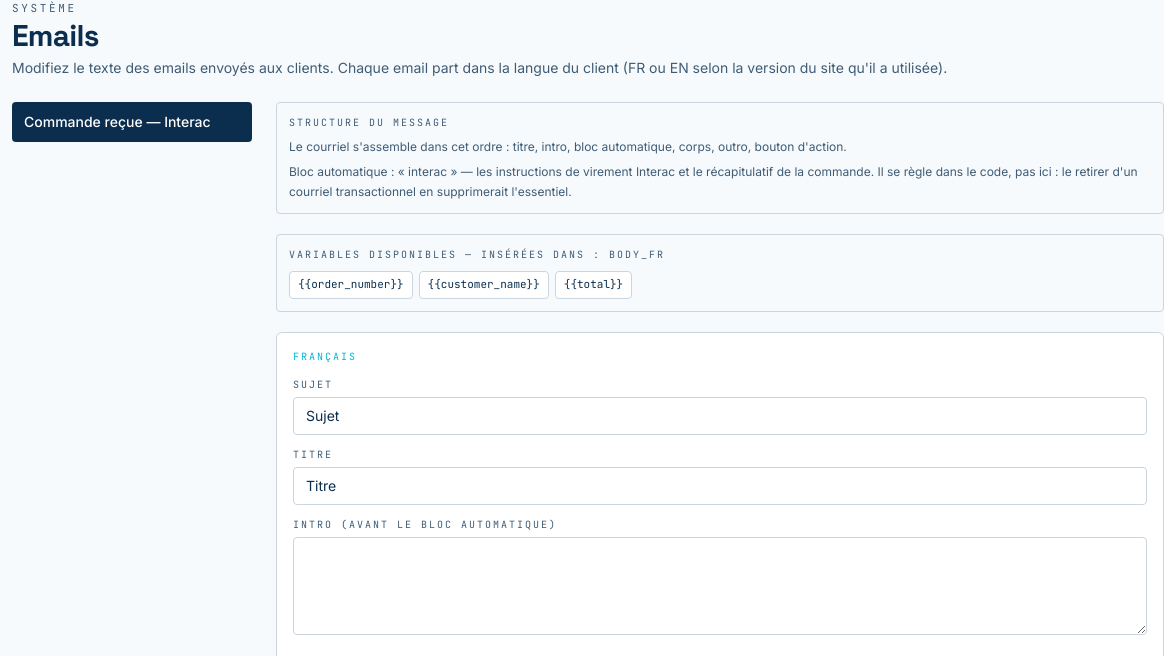
it: une variable sans accolades est normalisée
This screenshot has width=1164, height=656.
What coordinates should you click on to do the following:
click the button with test id "email-var-order_number"
I would click on:
 (351, 285)
Its box is [289,271,413,299].
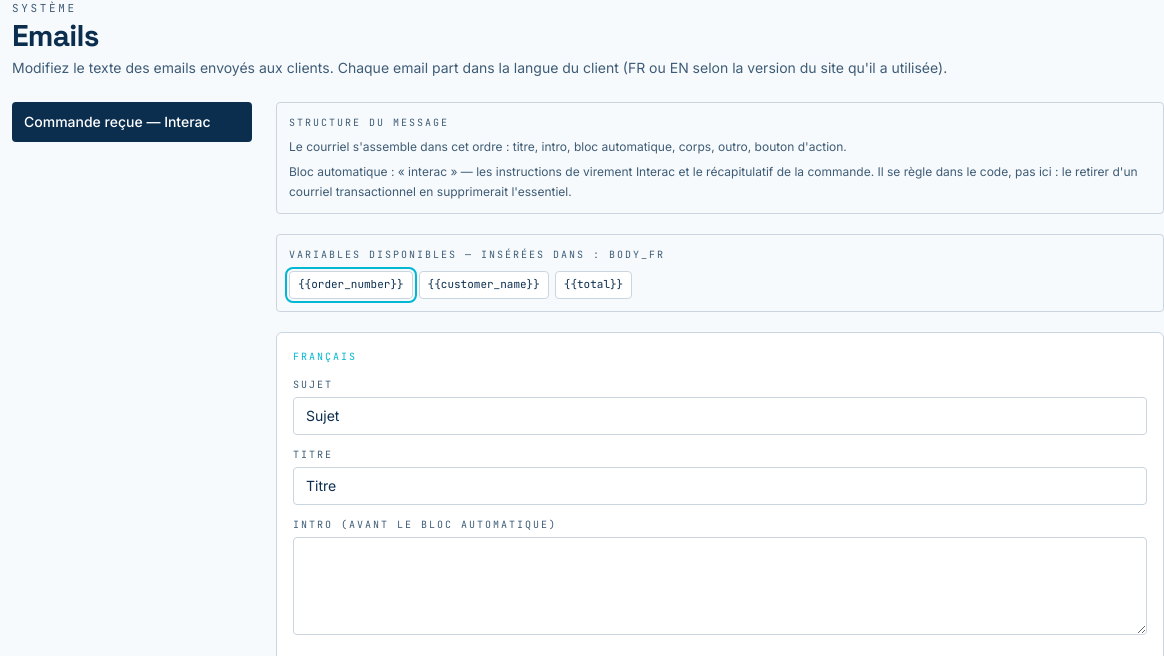
What coordinates should you click on to do the following:
click the button with test id "email-var-customer_name"
I would click on:
 (484, 285)
Its box is [419,271,549,299].
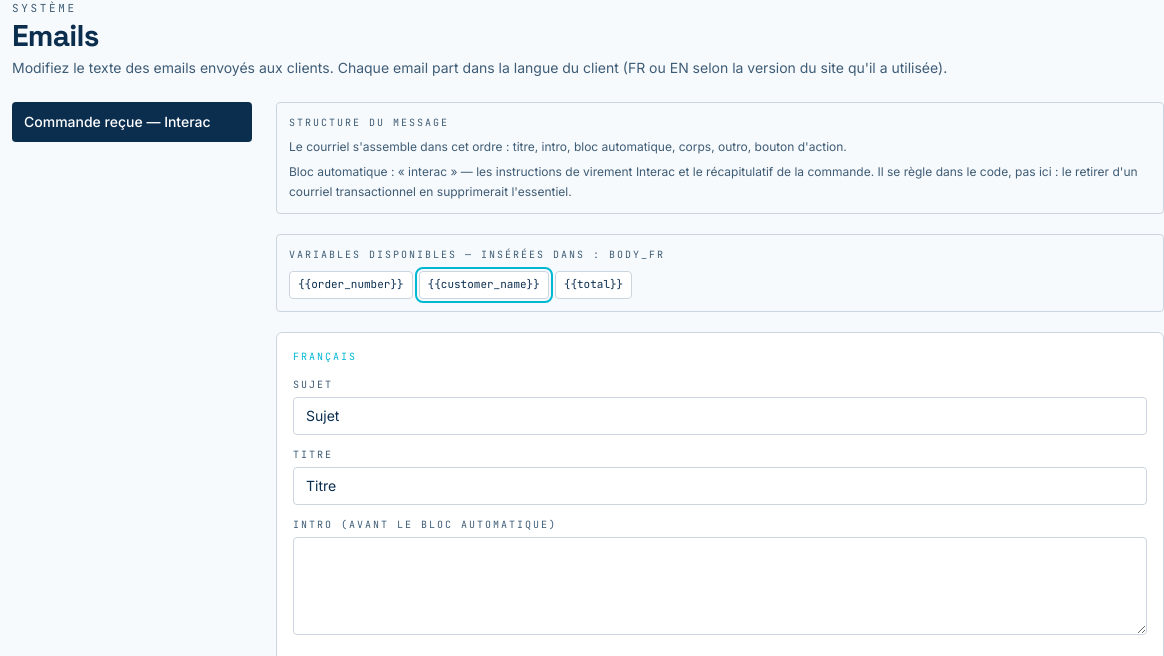
What coordinates should you click on to do the following:
click the button with test id "email-var-total"
I would click on:
 (594, 285)
Its box is [555,271,632,299].
(page scrolled)
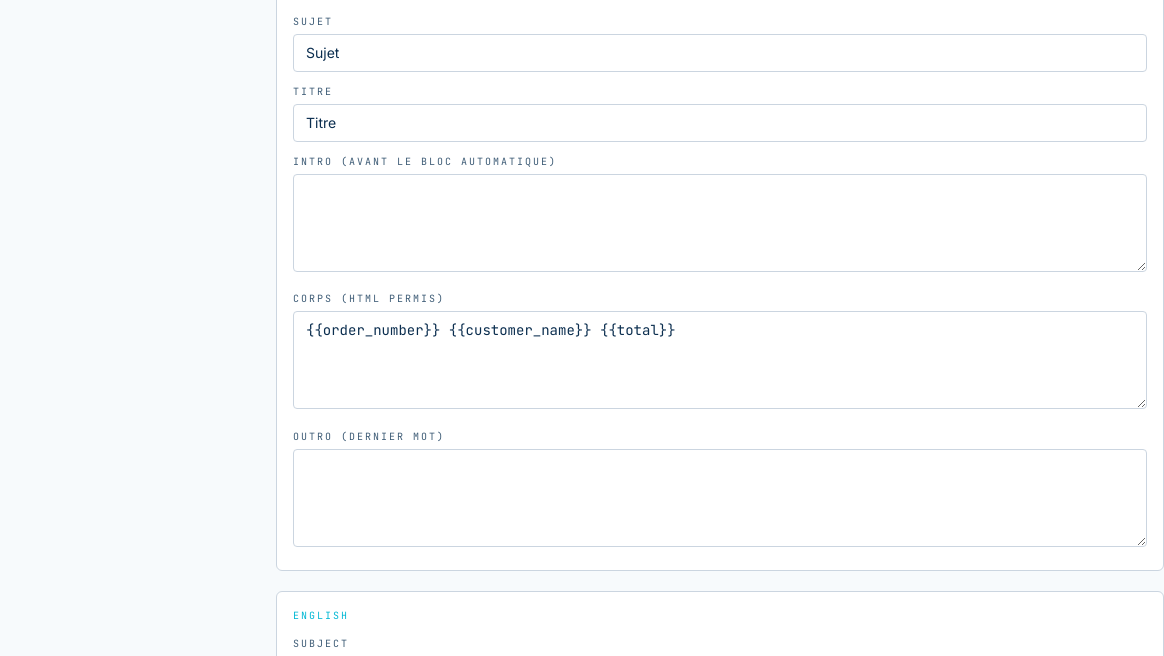
expect the text box with test id "email-body-fr" holds "{{order_number}} {{customer_name}} {{total}}": met, box [293,311,1147,409]
